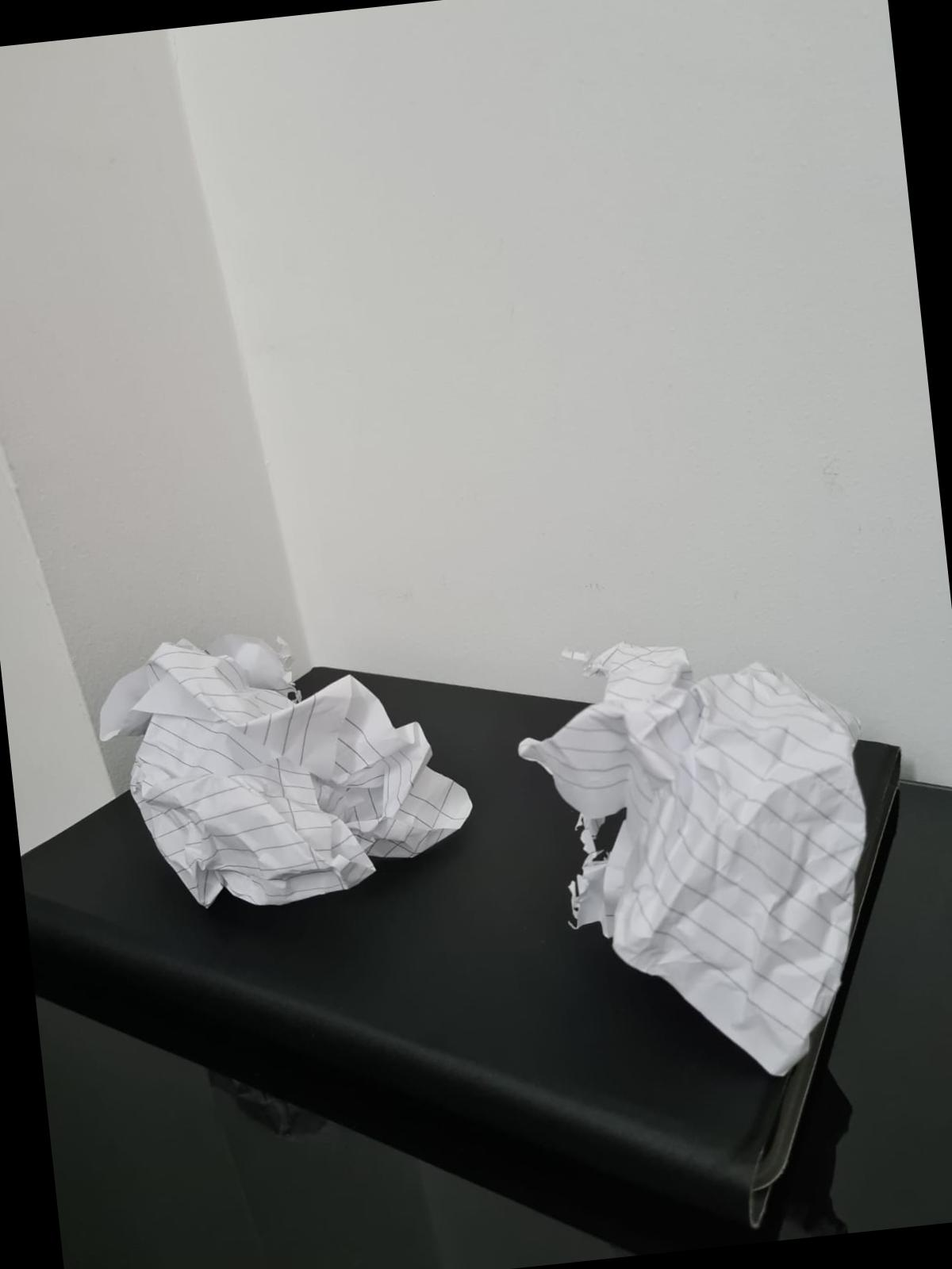Kertas: (516, 638, 871, 1084), (90, 624, 500, 931)
